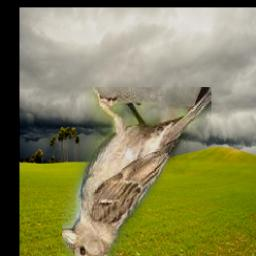Sparrow: (62, 87, 211, 256)
